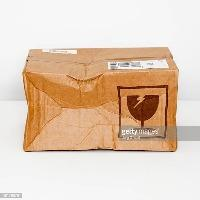undamaged: (15, 43, 186, 154)
